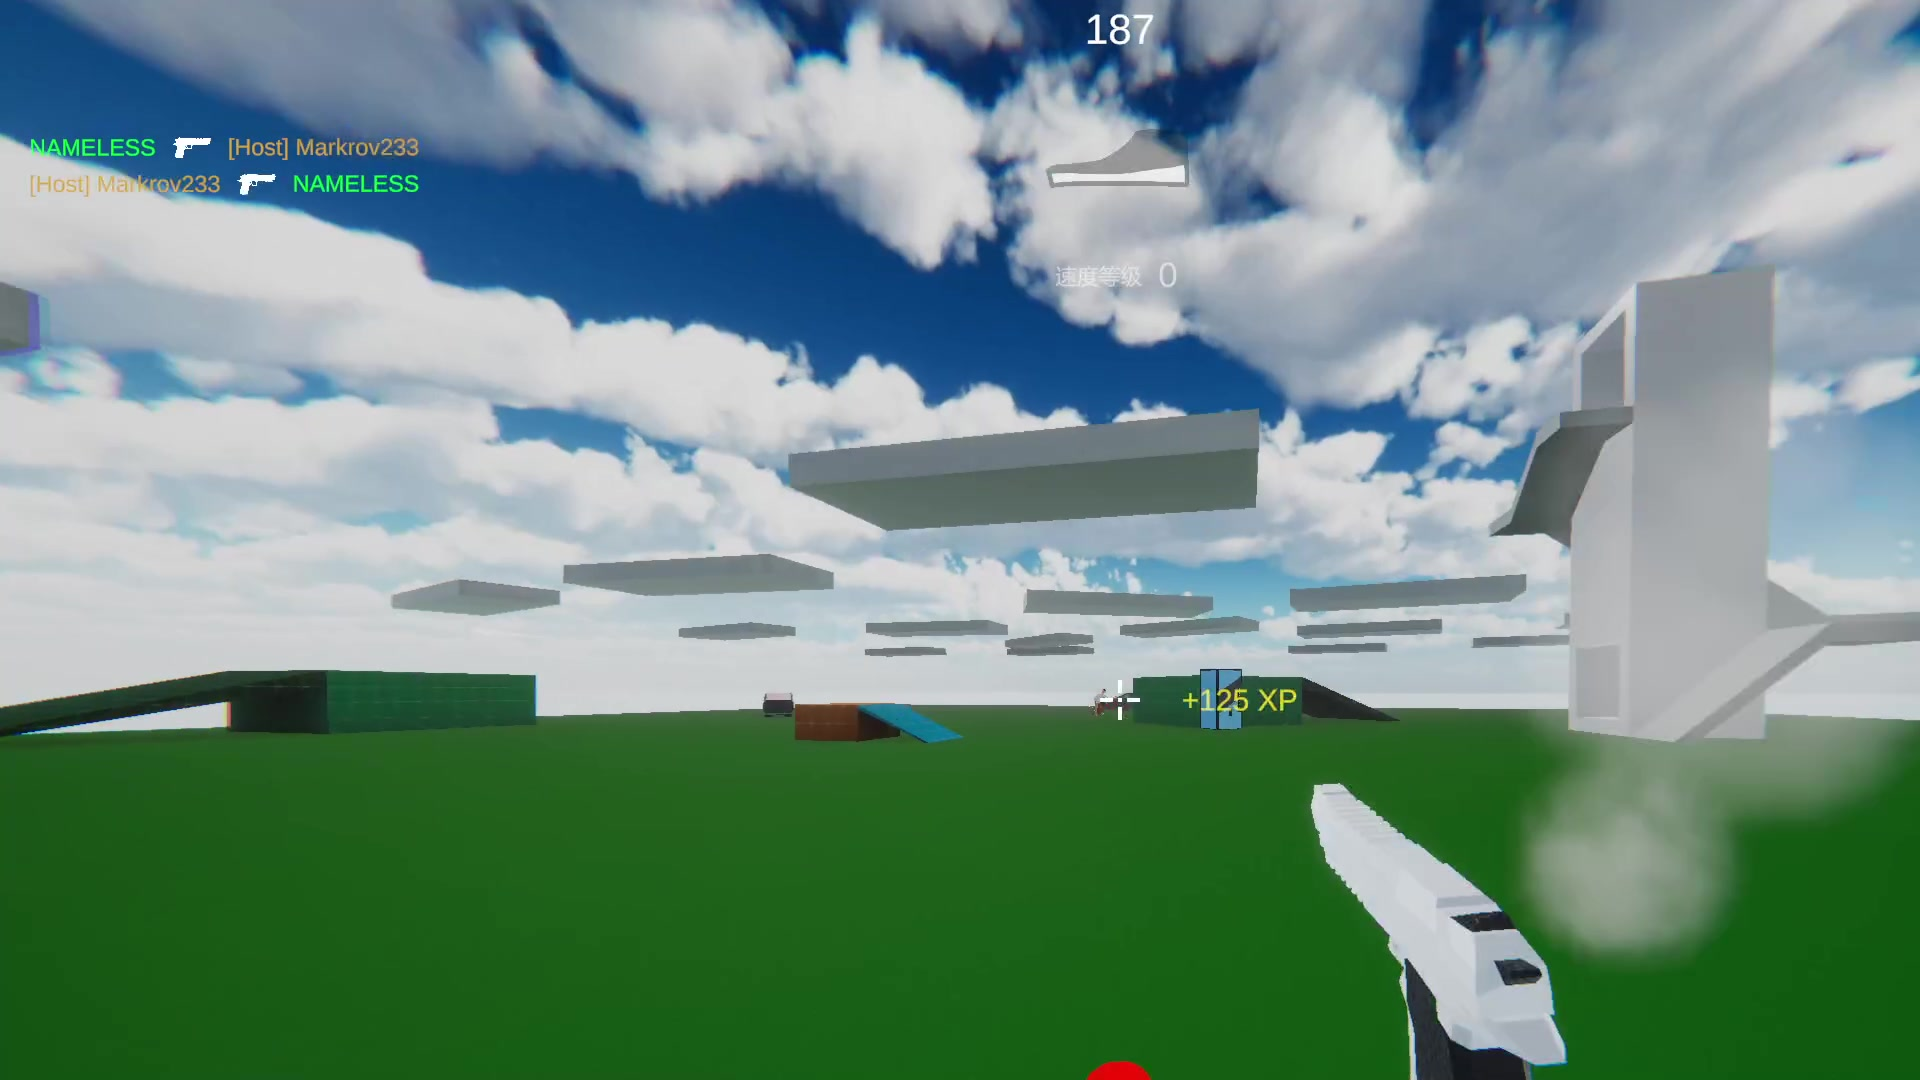human: (1094, 674, 1108, 722)
